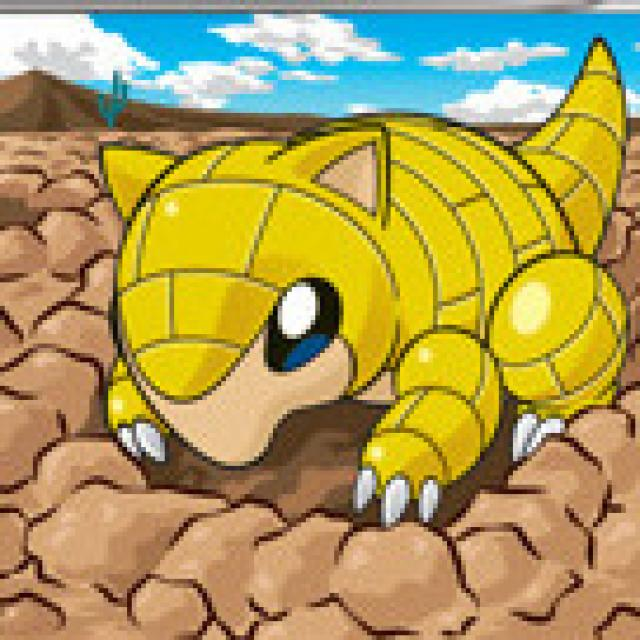Sandshrew: (106, 110, 625, 507)
